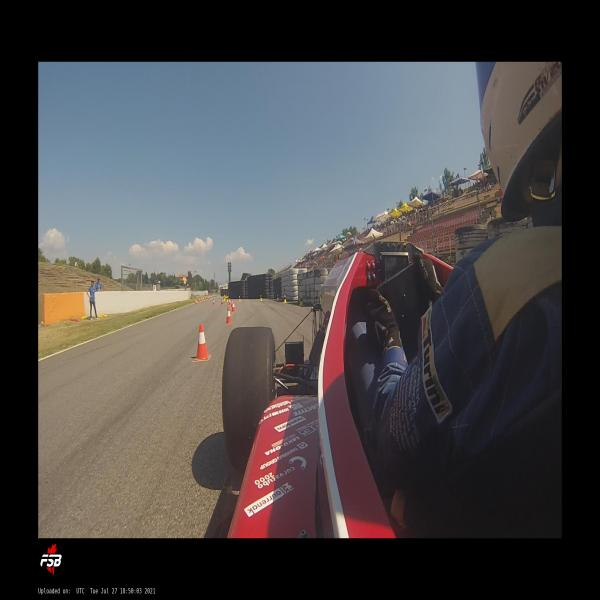orange_cone: (194, 323, 210, 361), (225, 307, 232, 324), (231, 301, 236, 312), (231, 300, 233, 308), (229, 299, 231, 305), (222, 299, 224, 305), (213, 300, 215, 305)
yellow_cone: (299, 296, 303, 306), (284, 295, 287, 303), (277, 294, 279, 301), (260, 295, 262, 301), (239, 296, 241, 301)
